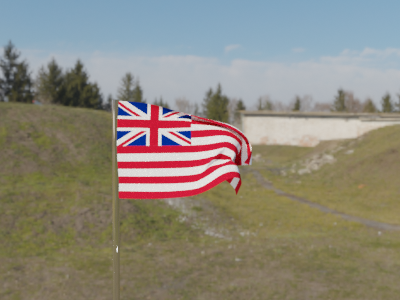Malaysia flag: (114, 100, 253, 200)
